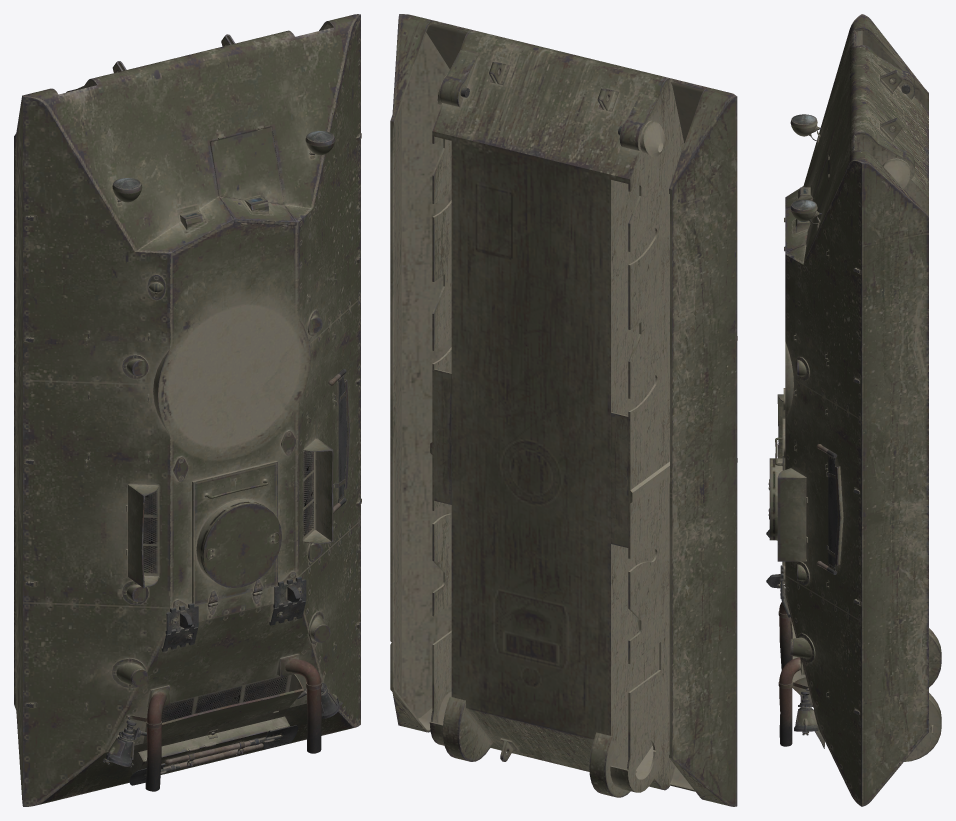
Rendered from Hull.glb.
The picture shows the model from 3 angles, left to right: view 1: azimuth 30°, elevation 25°; view 2: azimuth 150°, elevation 25°; view 3: azimuth 270°, elevation 25°; orthographic projection. The views are drawn at different scales.
Visible parts, largest first — view 1: set_0_group_0; view 2: set_0_group_0; view 3: set_0_group_0.
Part boxes in pixels (left/top/right/bottom): set_0_group_0: left=14, top=14, right=361, bottom=806; set_0_group_0: left=390, top=14, right=737, bottom=806; set_0_group_0: left=766, top=14, right=941, bottom=806.
Bounding box in the file's own units: 2.8 × 5.62 × 1.39.
Materials: 1 (1 with a texture image).
